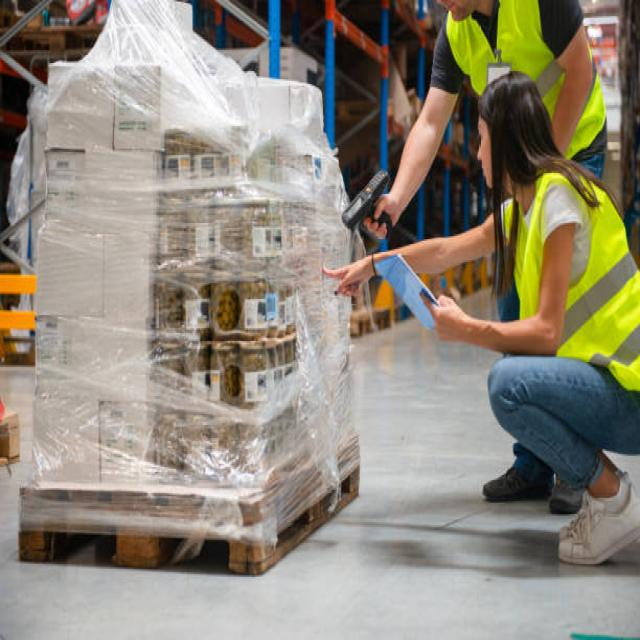Wooden-Pallets: (16, 448, 366, 585)
